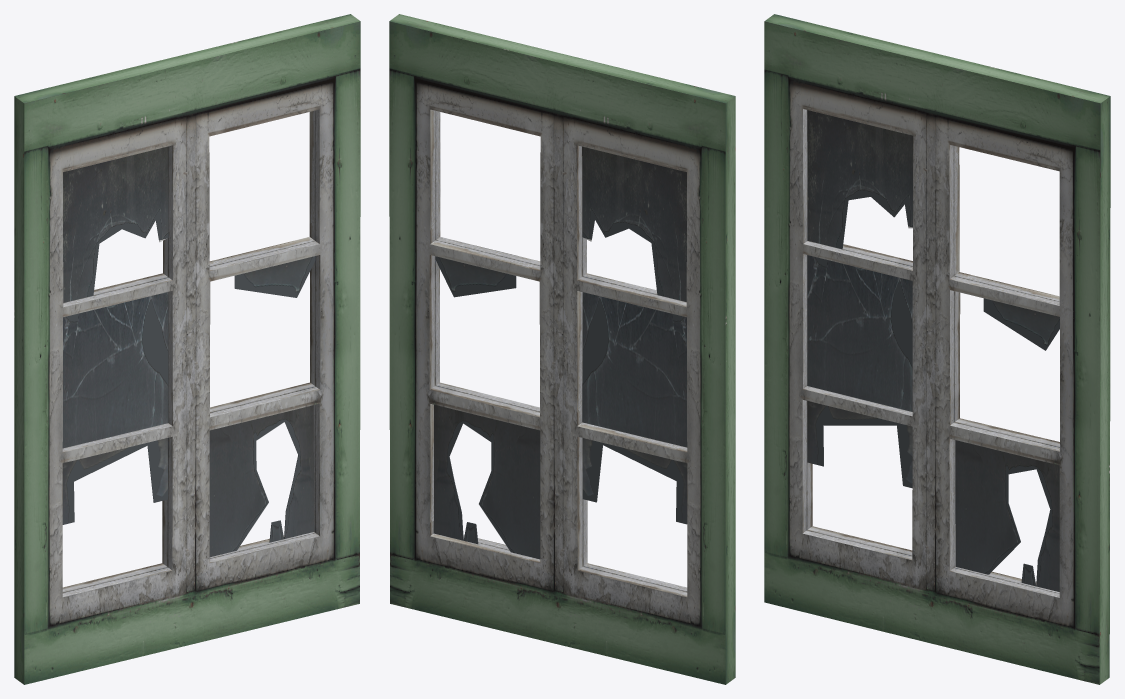
The model's file is Windows_04_2.FBX.
3 renders of one model, left to right at view 1: azimuth 30°, elevation 25°; view 2: azimuth 150°, elevation 25°; view 3: azimuth 330°, elevation 25°, orthographic.
Parts seen in each view (by area): view 1: Windows_04_2, Windows_04_2glass (×5); view 2: Windows_04_2, Windows_04_2glass (×5); view 3: Windows_04_2, Windows_04_2glass (×5).
Part boxes in pixels (box(x1,y1,x2,y2)): Windows_04_2: box(14, 14, 360, 684); Windows_04_2glass (×5): box(62, 146, 315, 557); Windows_04_2: box(389, 14, 735, 684); Windows_04_2glass (×5): box(433, 146, 687, 559); Windows_04_2: box(764, 14, 1110, 684); Windows_04_2glass (×5): box(807, 110, 1059, 591).
Bounding box in the file's own units: 114 × 5.89 × 188.
Materials: 2 (2 with a texture image).
